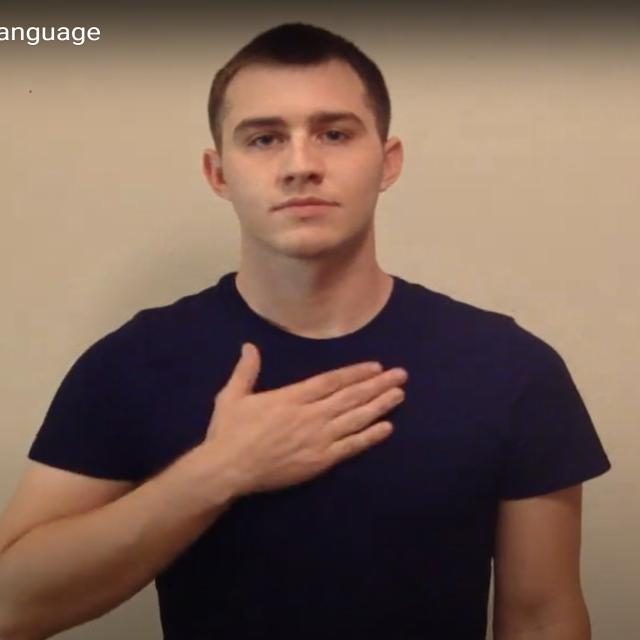my: (206, 342, 405, 490)
